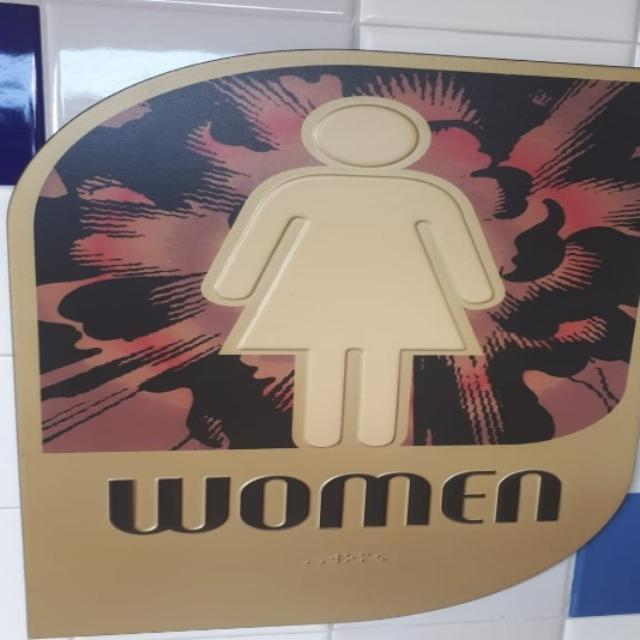womens_restroom: (11, 52, 639, 635)
